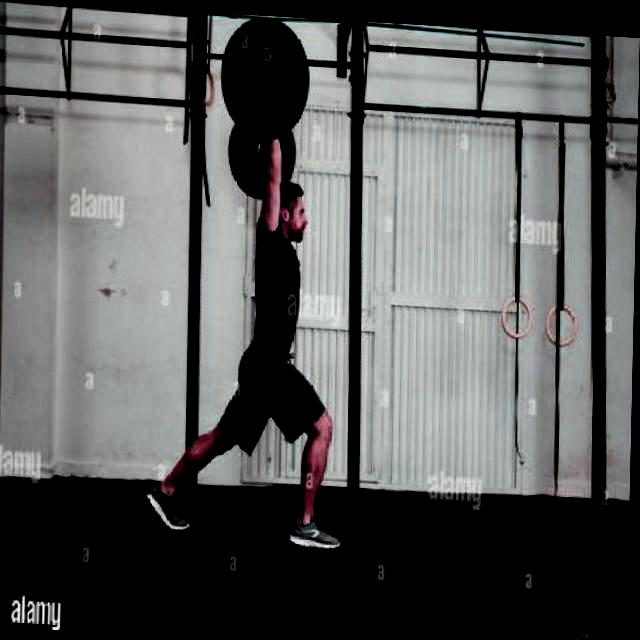barbell: (217, 11, 312, 143)
